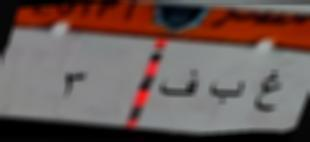3: (54, 64, 105, 104)
baa: (206, 74, 248, 110)
faa: (158, 64, 203, 102)
ghayn: (252, 63, 285, 118)
